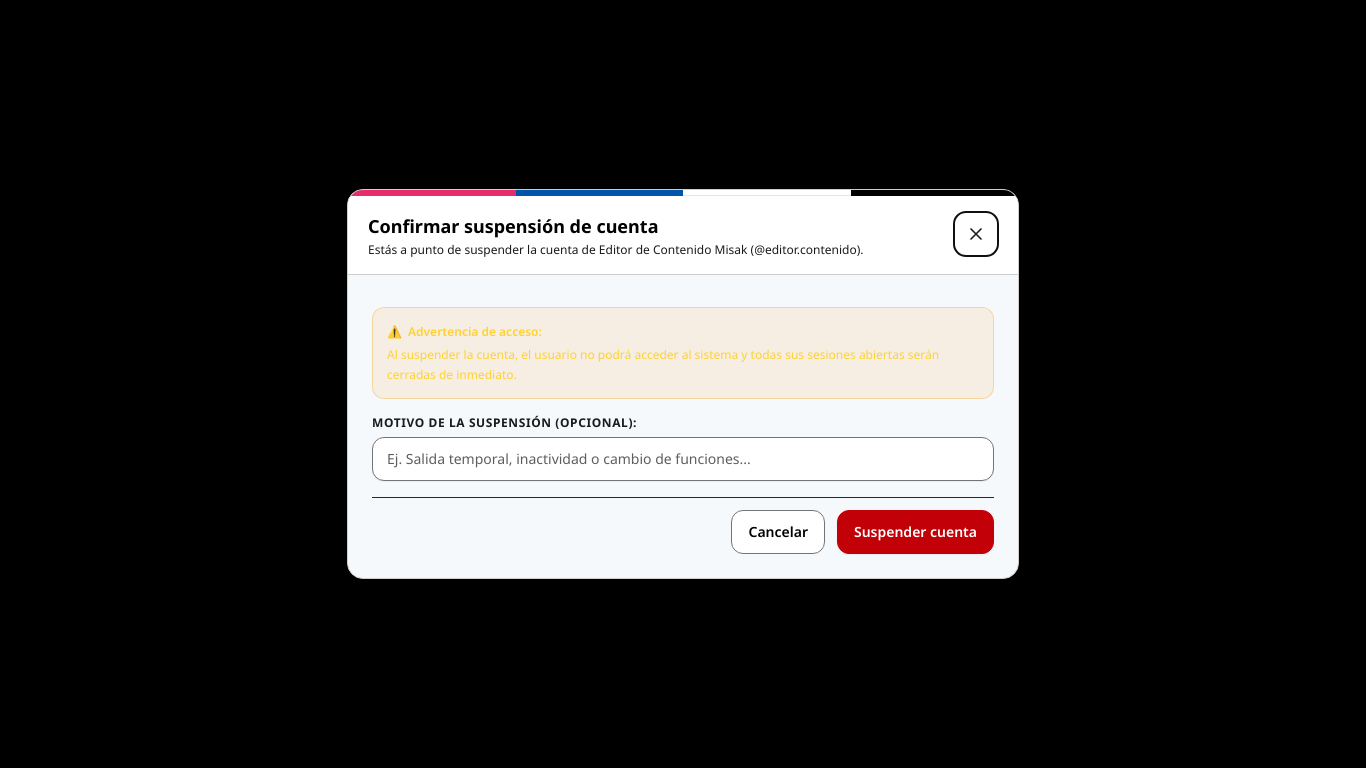
Test: SuspendUserDialog (R-004) › muestra mensaje de error si onConfirm falla
The image size is (1366, 768).
Click the button "Suspender cuenta" at x=916, y=532, box [837,510,994,554]
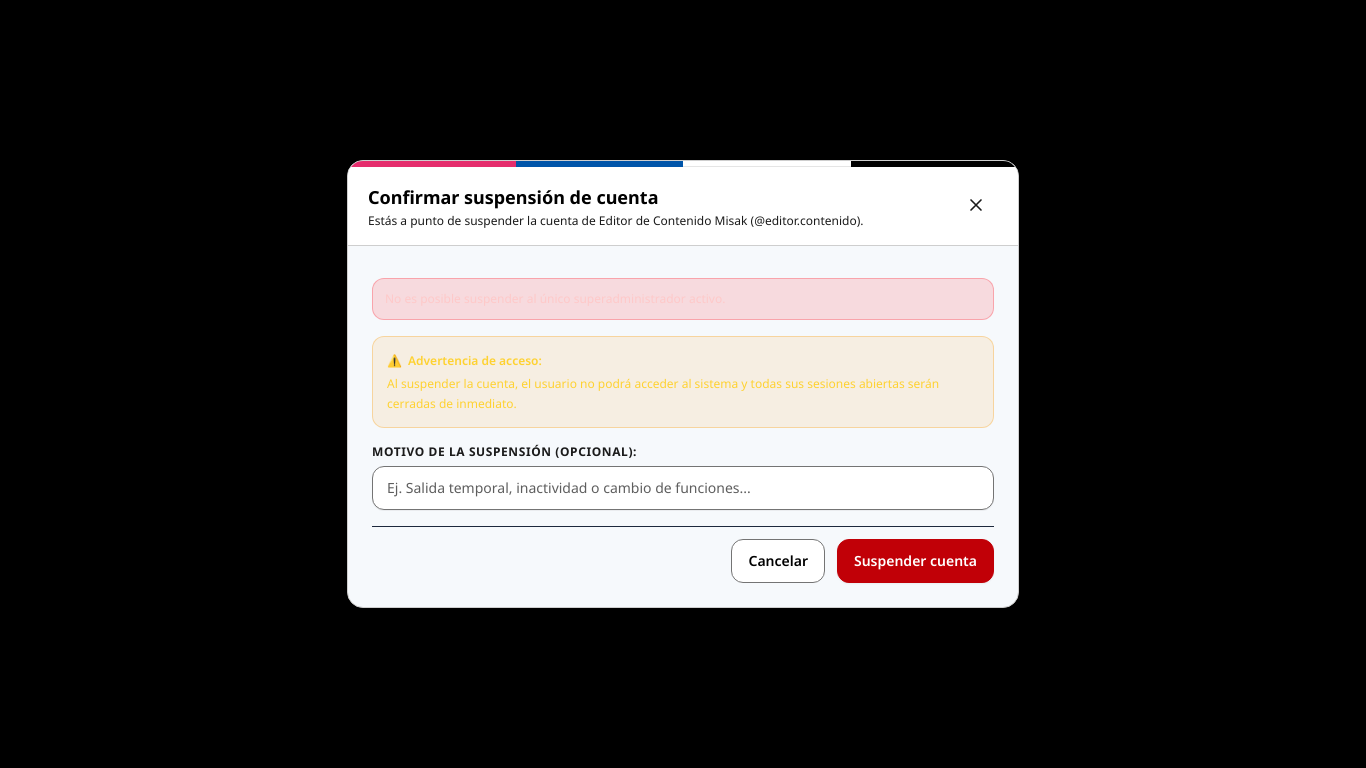
Now the text "No es posible suspender al único superadministrador activo." is shown, box [372,278,994,320]
